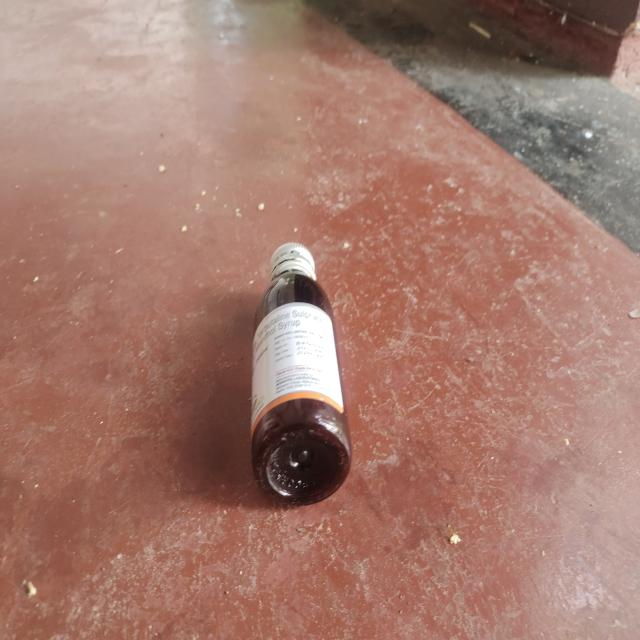plastic: (249, 239, 352, 505)
